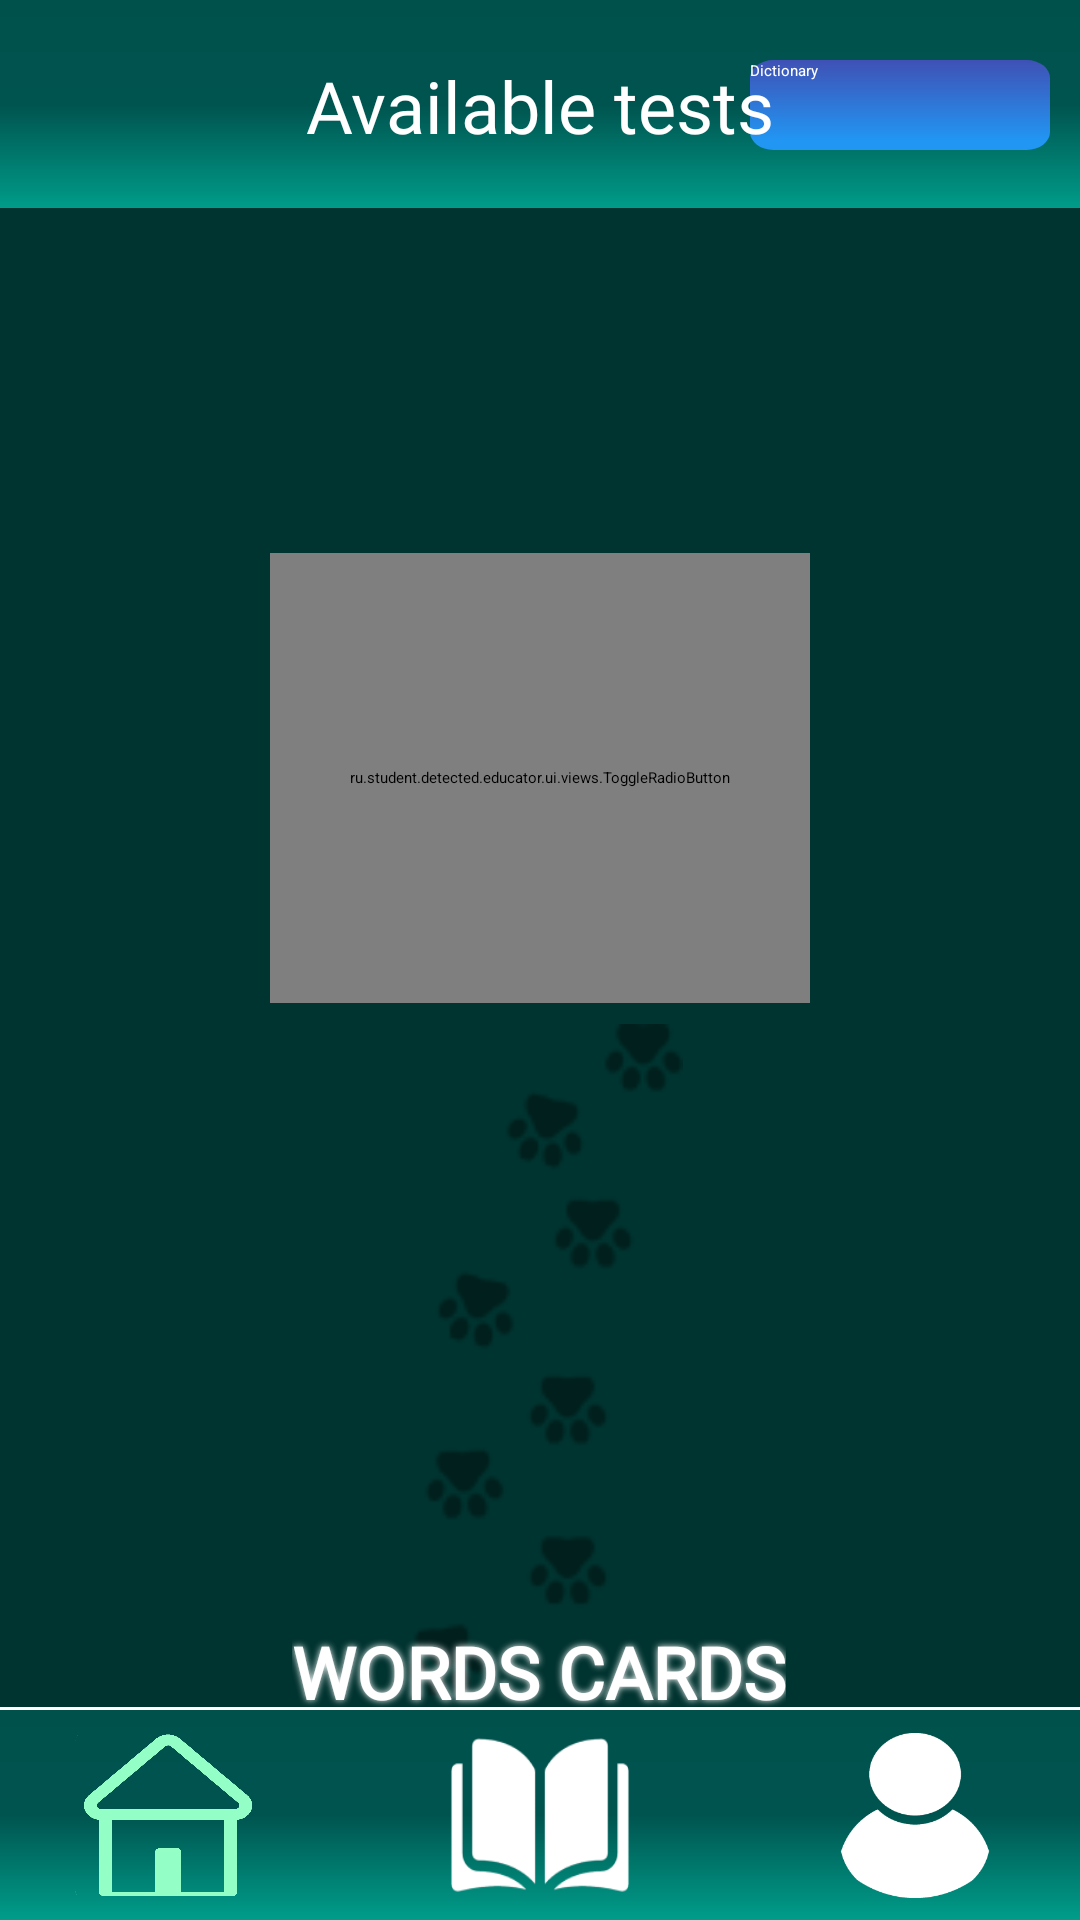

Point at icon controls on the screen. Image size 1080×1920, points as [x,y].
home: [165,1815]
theory: [540,1815]
user: [915,1815]
